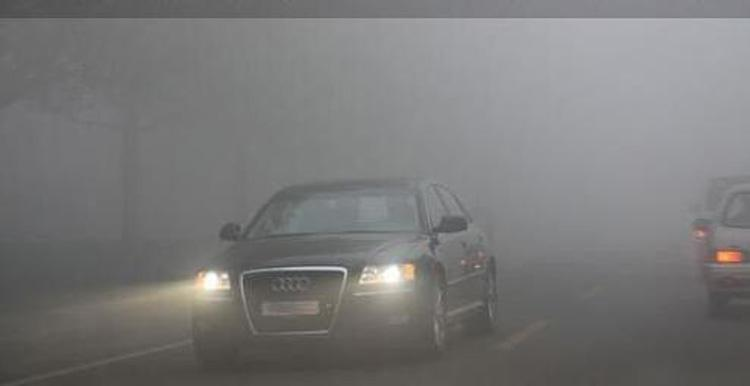car: (193, 174, 500, 374), (688, 175, 750, 324)
